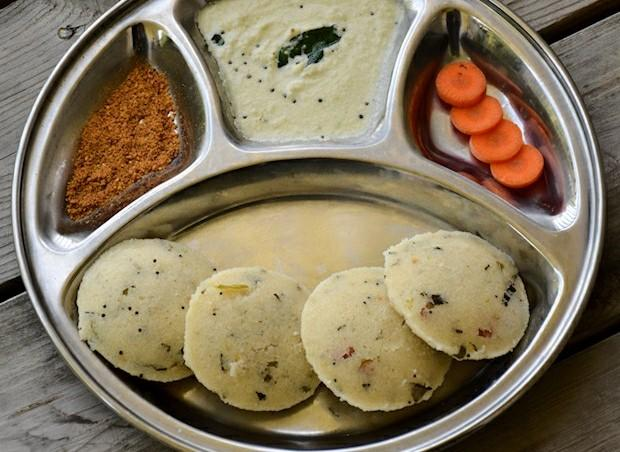CoconutChutney: (195, 0, 406, 144)
Idli: (76, 235, 221, 389), (300, 264, 437, 415), (185, 262, 320, 411), (385, 225, 529, 357)
